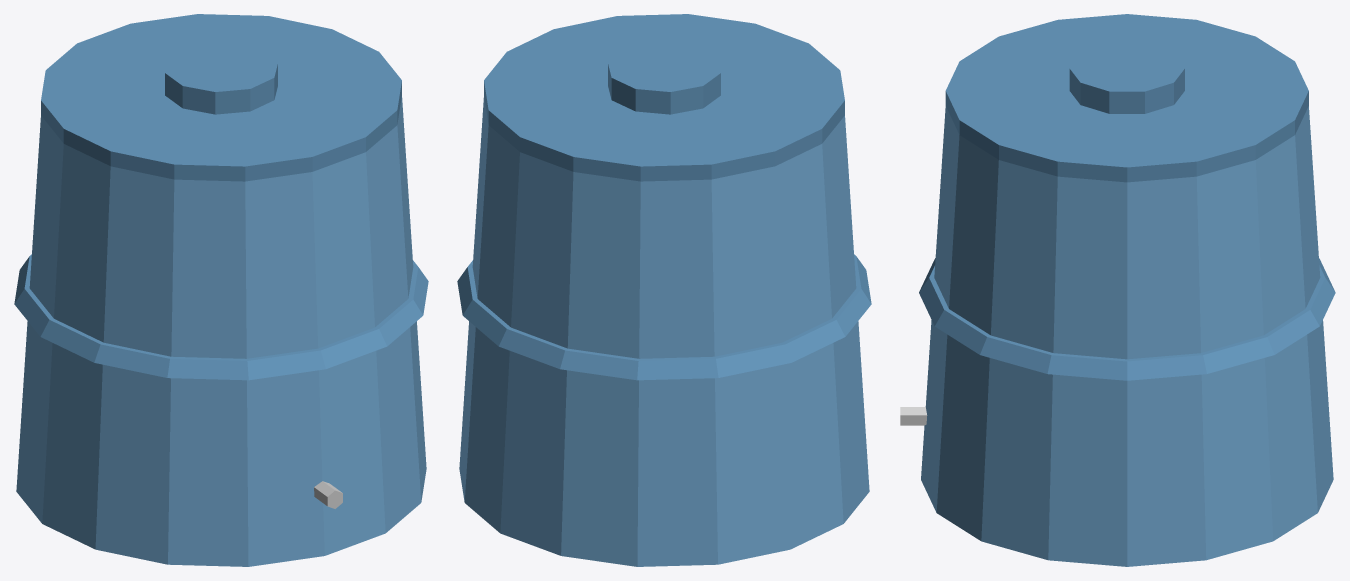
The model's file is water-tank.glb.
3 views of the same model, side by side, from view 1: azimuth 30°, elevation 25°; view 2: azimuth 150°, elevation 25°; view 3: azimuth 270°, elevation 25° (orthographic).
Visible parts, largest first — view 1: water-tank_Cone, water-tank_Cylinder, water-tank_Cone.001, water-tank_Cylinder.001, water-tank_Cylinder.002; view 2: water-tank_Cone, water-tank_Cylinder, water-tank_Cone.001, water-tank_Cylinder.001; view 3: water-tank_Cone, water-tank_Cylinder, water-tank_Cone.001, water-tank_Cylinder.001.
Boxes of the visible parts, x1,y1,x2,y2 form: water-tank_Cone: [16, 96, 426, 566]; water-tank_Cylinder: [41, 14, 401, 181]; water-tank_Cone.001: [14, 254, 428, 380]; water-tank_Cylinder.001: [165, 43, 277, 114]; water-tank_Cylinder.002: [314, 481, 342, 508]; water-tank_Cone: [459, 96, 869, 566]; water-tank_Cylinder: [484, 14, 844, 181]; water-tank_Cone.001: [457, 254, 871, 380]; water-tank_Cylinder.001: [608, 43, 720, 114]; water-tank_Cone: [921, 106, 1333, 566]; water-tank_Cylinder: [945, 14, 1308, 182]; water-tank_Cone.001: [919, 258, 1335, 380]; water-tank_Cylinder.001: [1069, 45, 1184, 113].
Size of the model in its own units: 1.01 by 1.1 by 1.06.
